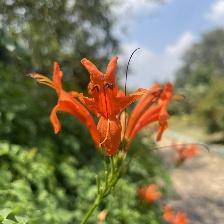honeysuckle: (75, 52, 137, 157)
